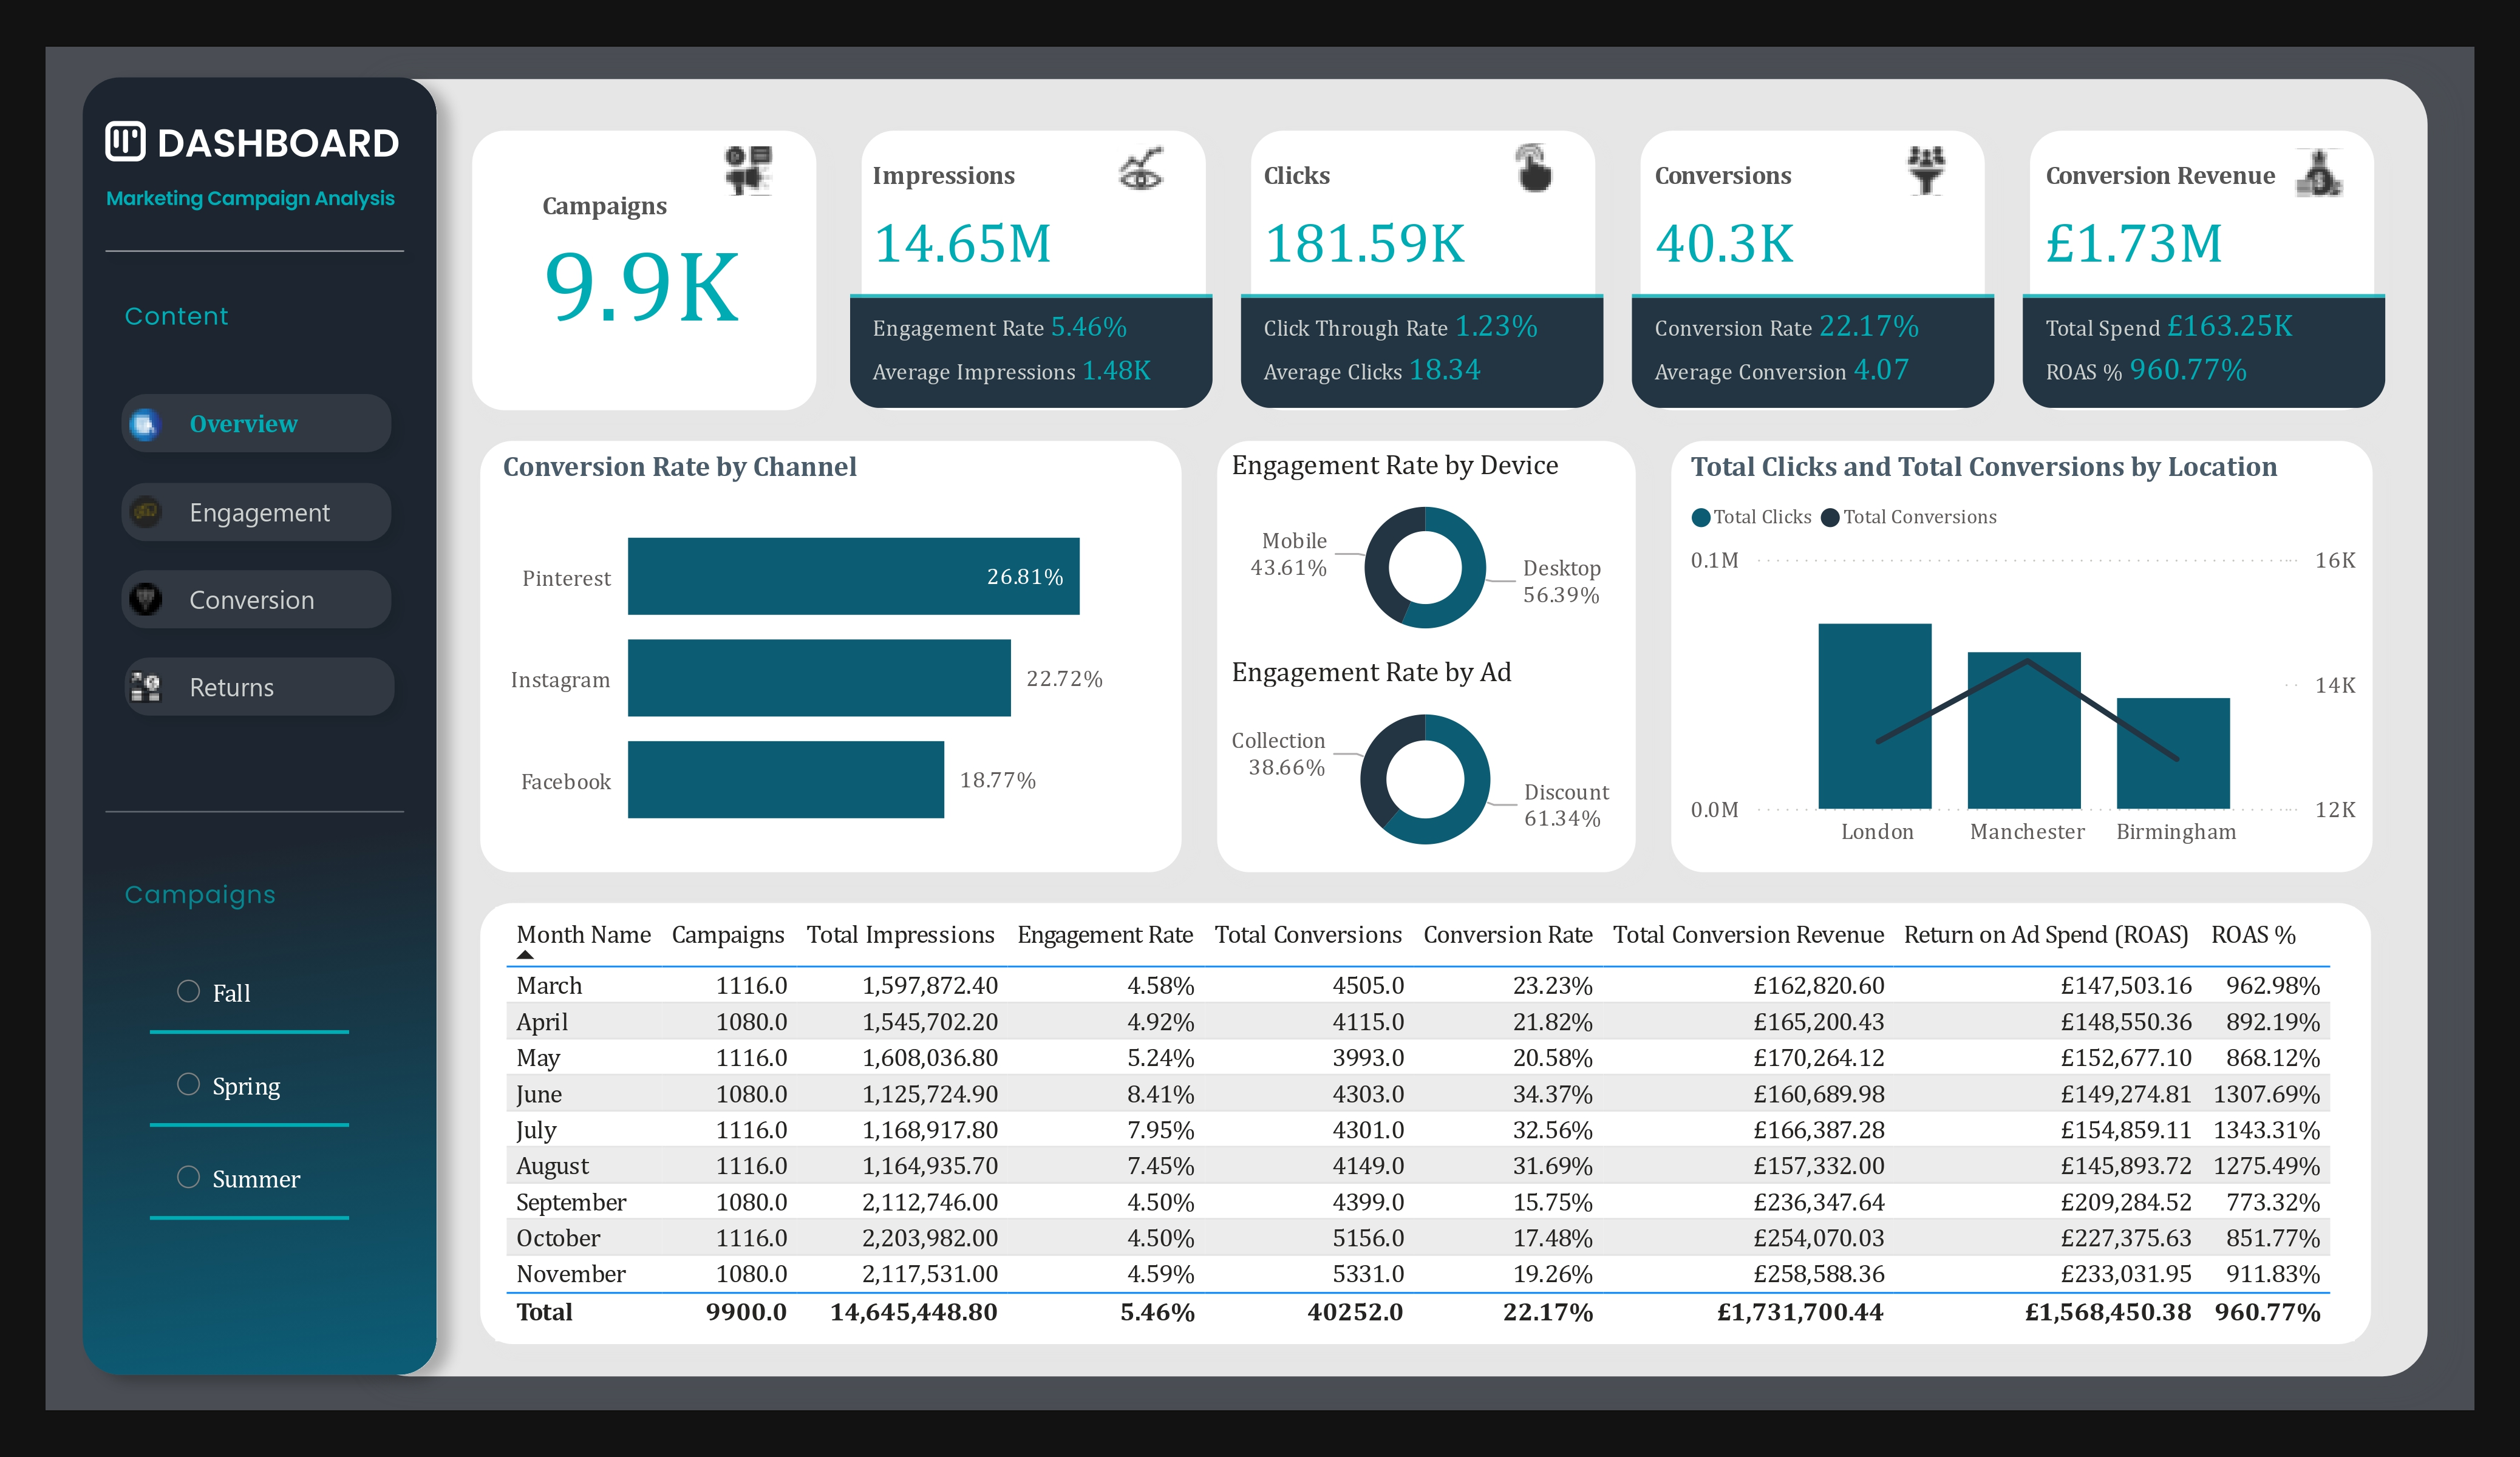

Layout of this report page (visuals, bound fields, positions):
{"tool":"powerbi","page":{"name":"Overview","canvas":[1280,720],"ordinal":0},"visuals":[{"type":"lineClusteredColumnComboChart","fields":{"Category":["marketing.Location"],"Y2":["_measures.Total Conversions"],"Y":["_measures.Total Clicks"]},"box":[861.9,212.6,360.8,217],"z":0},{"type":"tableEx","fields":{"Values":["Calendar.Month Name","_measures.Campaigns","_measures.Total Impressions","_measures.Engagement Rate","_measures.Total Conversions","_measures.Conversion Rate","_measures.Total Conversion Revenue","_measures.Return on Ad Spend (ROAS)","_measures.ROAS %"]},"box":[237.3,454.3,980.1,228.5],"z":1000},{"type":"clusteredBarChart","fields":{"Category":["marketing.Channel"],"Y":["_measures.Conversion Rate"]},"box":[236.4,212.6,359.9,223.2],"z":2000},{"type":"donutChart","fields":{"Category":["marketing.Device"],"Y":["_measures.Engagement Rate"]},"box":[620.2,211.7,214.4,109.4],"z":3000},{"type":"donutChart","fields":{"Category":["marketing.Ad"],"Y":["_measures.Engagement Rate"]},"box":[620.2,321.1,214.4,114.7],"z":4000},{"type":"pageNavigator","box":[76.2,185.5,97.4,166.9],"z":5000},{"type":"advancedSlicerVisual","fields":{"Values":["marketing.Campaign"]},"box":[50.3,472,115.6,153.5],"z":6000},{"type":"cardVisual","fields":{"Data":["_measures.Campaigns","_measures.Total Impressions","_measures.Total Clicks","_measures.Total Conversions","_measures.Total Conversion Revenue"]},"box":[212.6,36.4,1027.5,160.1],"z":7000}]}

Visuals, with their boxes on the page's 1280x720 design canvas (x1, y1, x2, y2). These are canvas units, not pixel positions in the 2520x1457 screenshot, which may show the page scaled, cropped or inside an application window:
lineClusteredColumnComboChart - marketing.Location x _measures.Total Conversions: (862,213,1223,430)
tableEx - Calendar.Month Name x _measures.Campaigns: (237,454,1217,683)
clusteredBarChart - marketing.Channel x _measures.Conversion Rate: (236,213,596,436)
donutChart - marketing.Device x _measures.Engagement Rate: (620,212,835,321)
donutChart - marketing.Ad x _measures.Engagement Rate: (620,321,835,436)
pageNavigator: (76,186,174,352)
advancedSlicerVisual - marketing.Campaign: (50,472,166,626)
cardVisual - _measures.Campaigns x _measures.Total Impressions: (213,36,1240,196)
